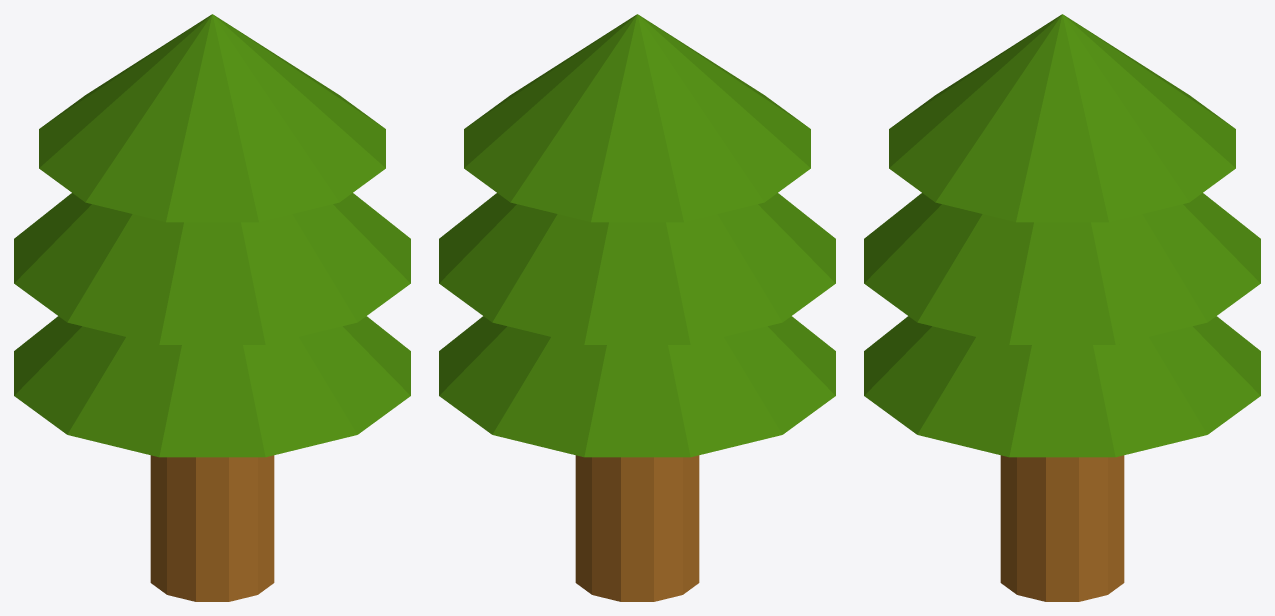
File: arbre.glb
3 renders of one model, left to right at view 1: azimuth 30°, elevation 25°; view 2: azimuth 150°, elevation 25°; view 3: azimuth 270°, elevation 25°, orthographic.
Parts seen in each view (by area): view 1: cone (×3), cylinder; view 2: cone (×3), cylinder; view 3: cone (×3), cylinder.
Boxes of the visible parts, x1,y1,x2,y2 form: cone (×3): (14, 14, 410, 457); cylinder: (150, 455, 274, 601); cone (×3): (439, 14, 835, 457); cylinder: (575, 455, 699, 601); cone (×3): (864, 14, 1260, 457); cylinder: (1000, 455, 1124, 601).
Bounding box in the file's own units: 1 × 1.56 × 1.
2 materials, 2 textured.
